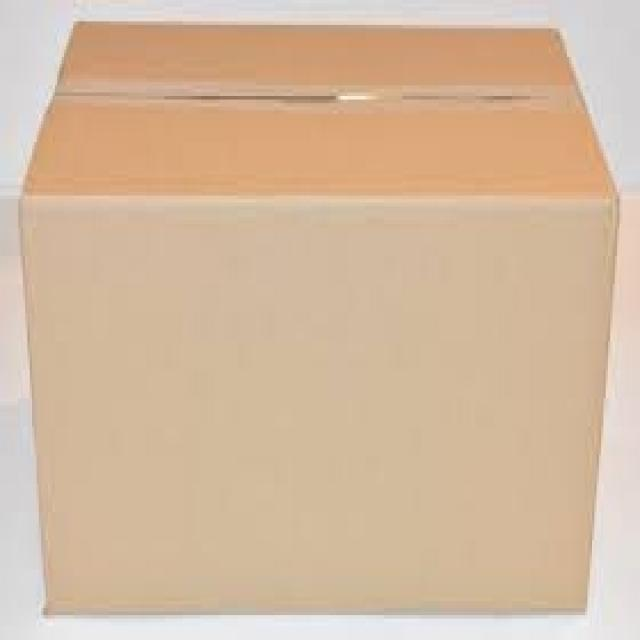cardboard paper: (23, 22, 613, 612)
